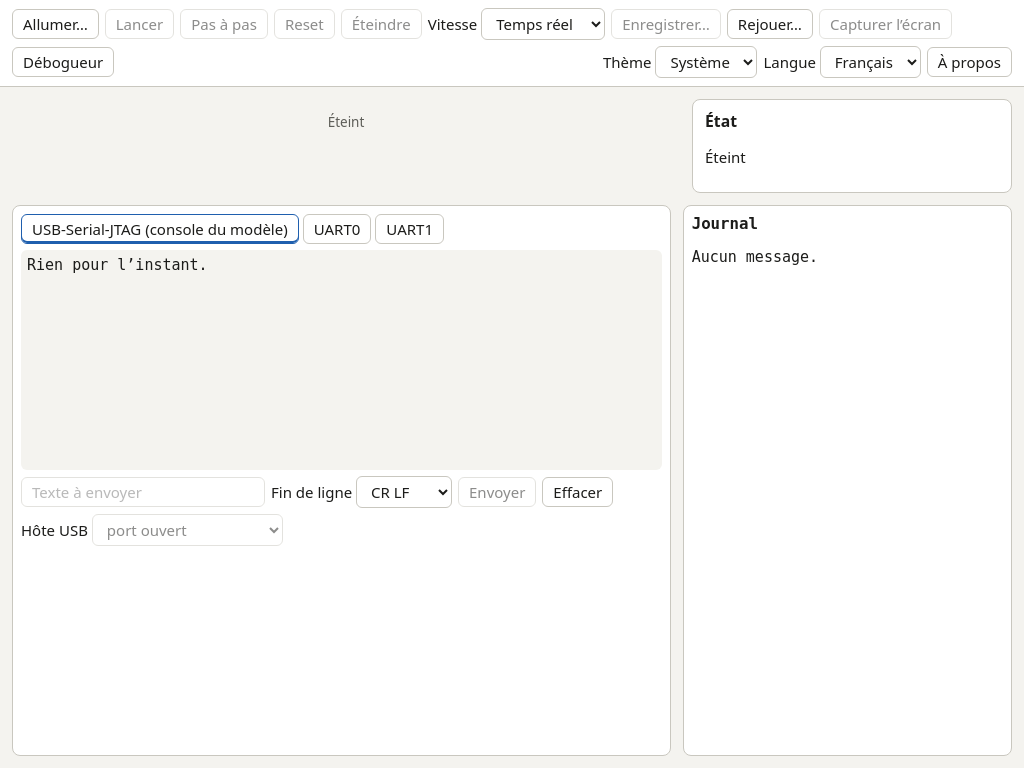
App › closes the dialog with Escape and gives the focus back
Click the button "Allumer…". click: (55, 24)
box: [12, 9, 99, 39]
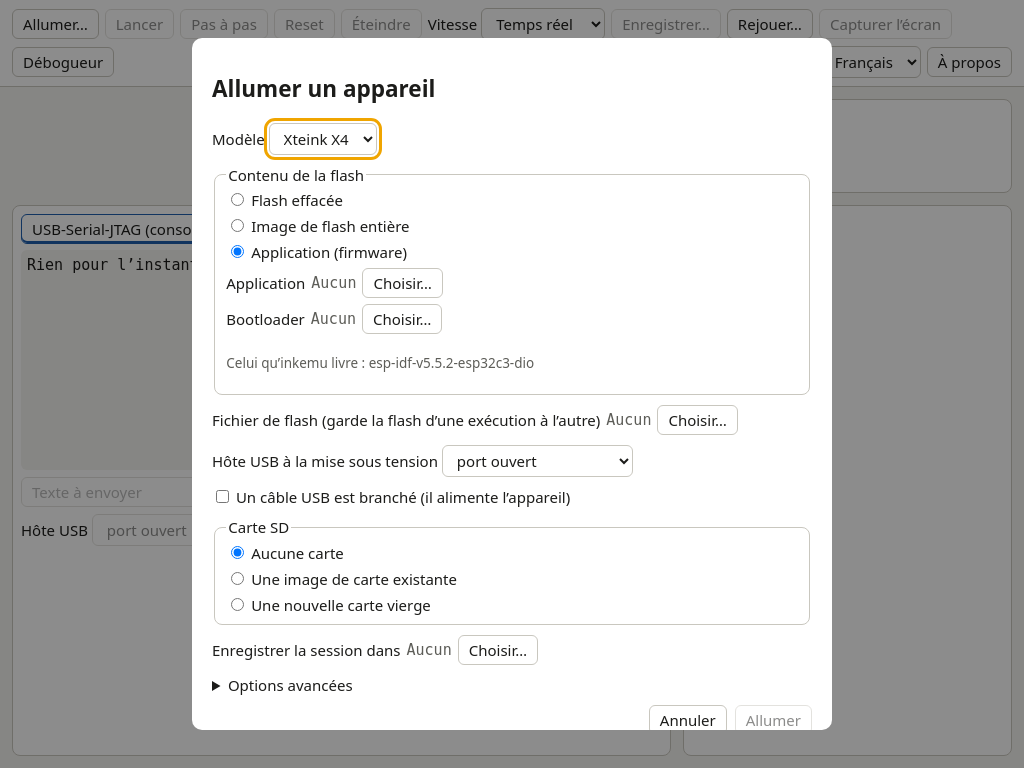
Check: the dialog "Allumer un appareil" is shown, box [192, 38, 832, 730]
Press Escape
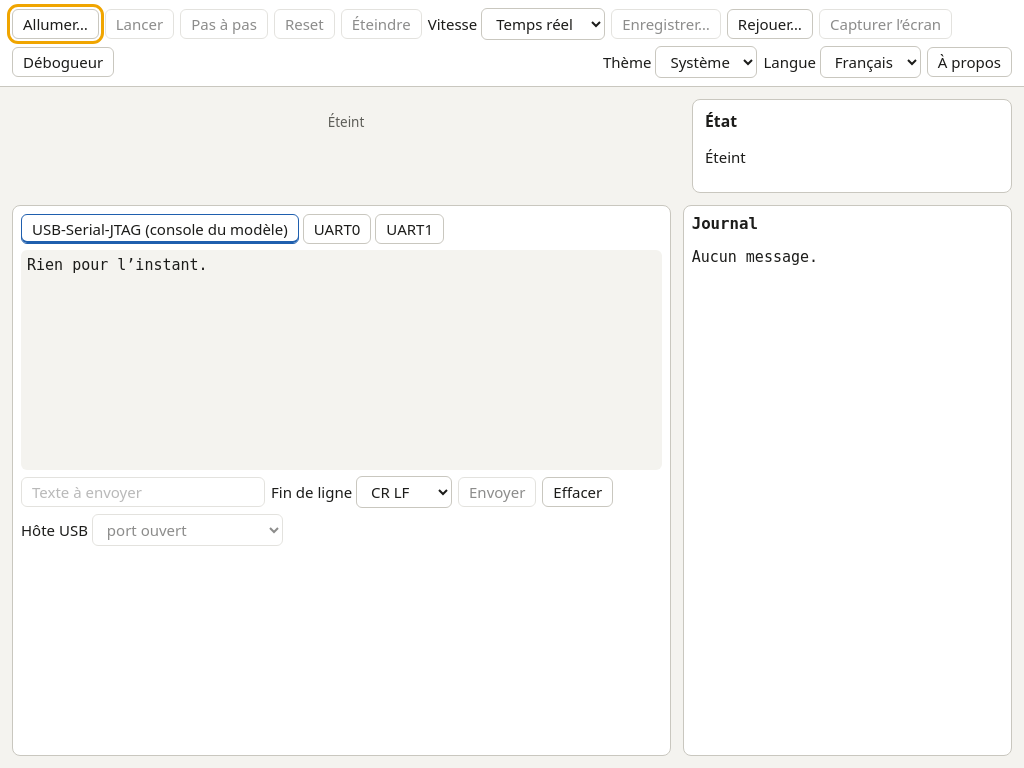
Check: the dialog is gone
